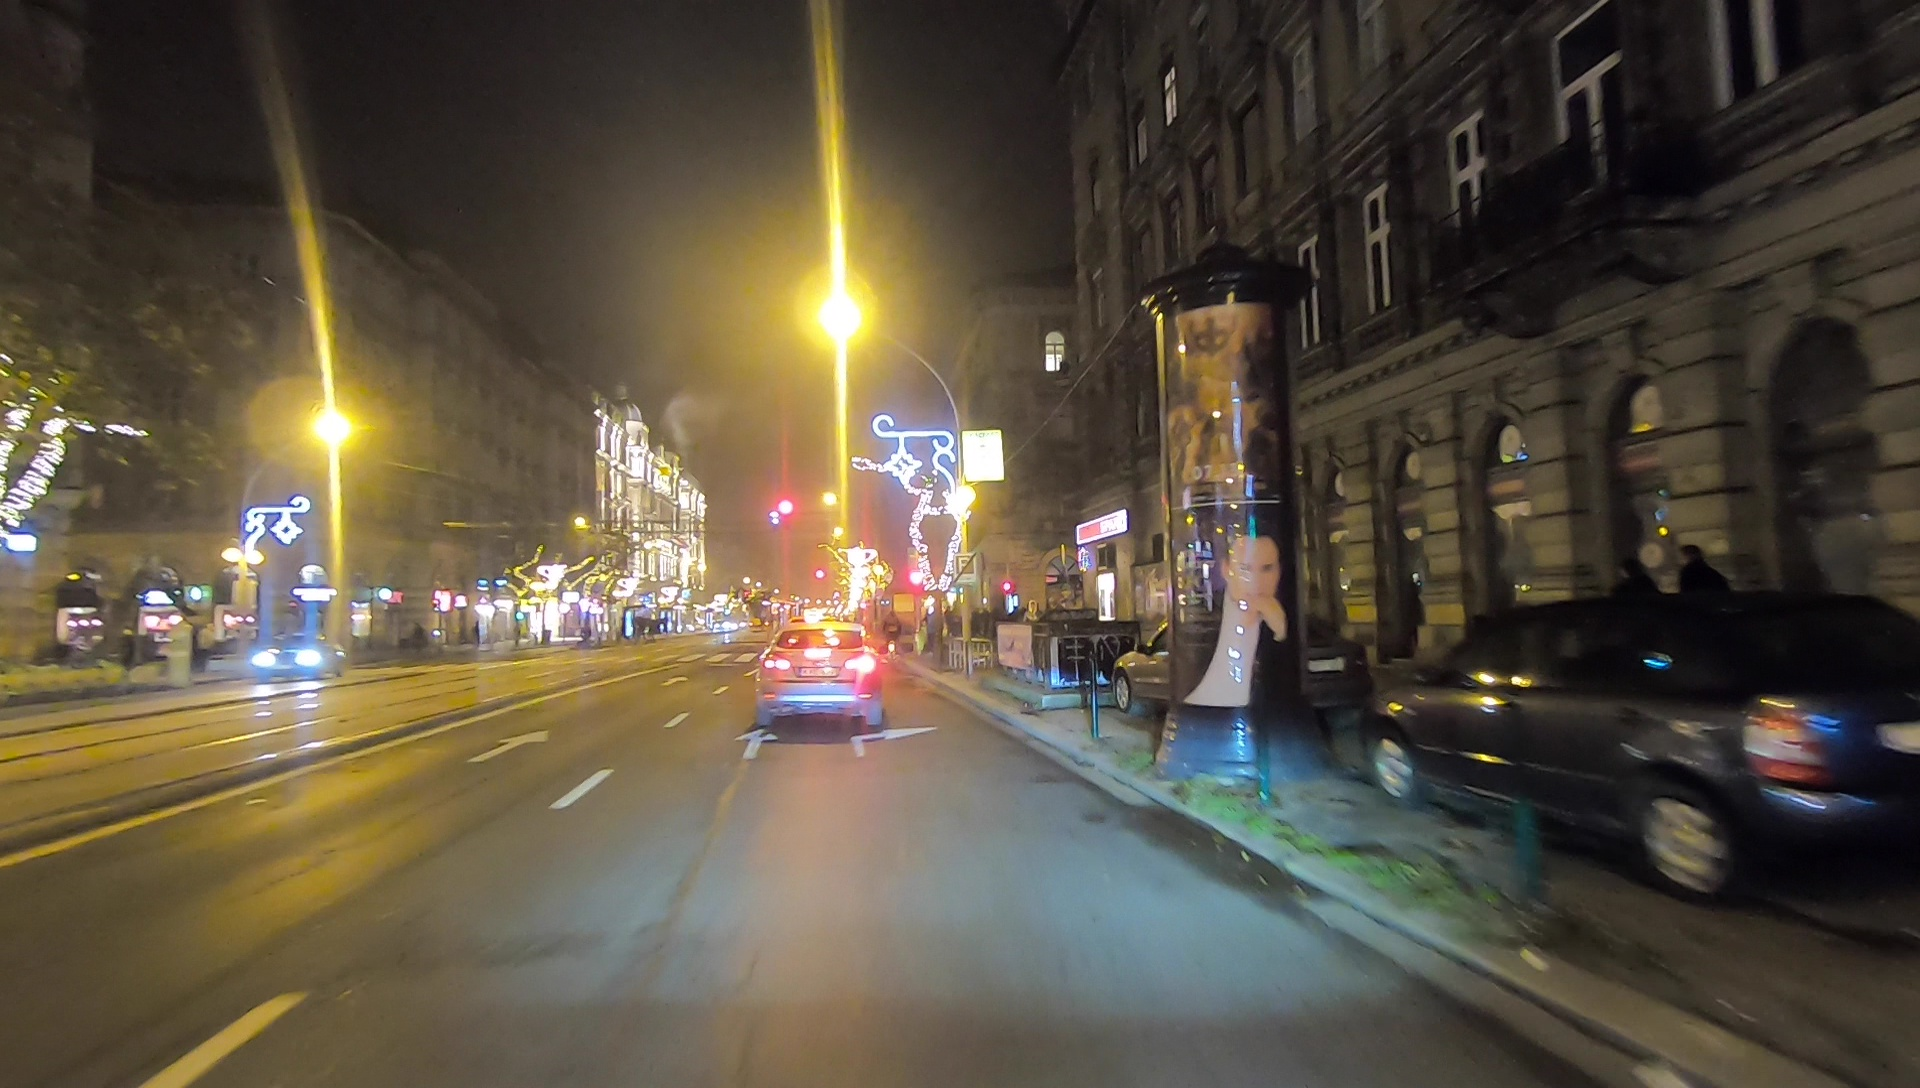person: (1678, 545, 1730, 676), (1615, 547, 1658, 673)
